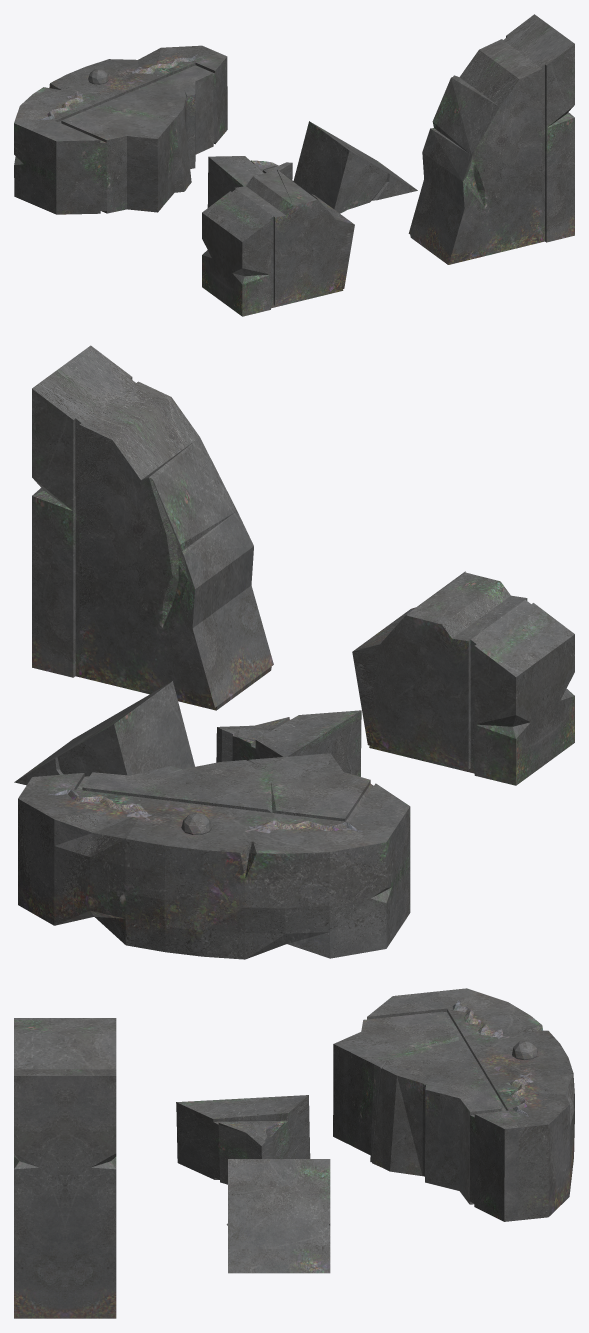
The model's file is Door_3_break.FBX.
3 views of the same model, one above another, from view 1: azimuth 30°, elevation 25°; view 2: azimuth 150°, elevation 25°; view 3: azimuth 270°, elevation 25° (orthographic). The views are drawn at different scales.
Visible parts, largest first — view 1: 对象001, Door_3, 对象002, 对象004, 对象003; view 2: Door_3, 对象001, 对象002, 对象004, 对象003; view 3: Door_3, 对象001, 对象004, 对象003, 对象002.
Part boxes in pixels (x1,y1,x2,y2): 对象001: (408, 14, 574, 264); Door_3: (14, 45, 227, 214); 对象002: (202, 169, 354, 316); 对象004: (293, 121, 417, 213); 对象003: (207, 156, 292, 207); Door_3: (18, 753, 410, 959); 对象001: (32, 345, 273, 710); 对象002: (352, 571, 574, 785); 对象004: (14, 681, 194, 785); 对象003: (216, 710, 361, 776); Door_3: (333, 988, 574, 1221); 对象001: (14, 1069, 116, 1318); 对象004: (226, 1159, 330, 1273); 对象003: (176, 1095, 310, 1184); 对象002: (14, 1018, 116, 1069).
Size of the model in its own units: 143 by 72.05 by 144.
Materials: 1 (1 with a texture image).
